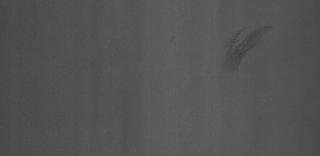water spot: (220, 24, 278, 74)
